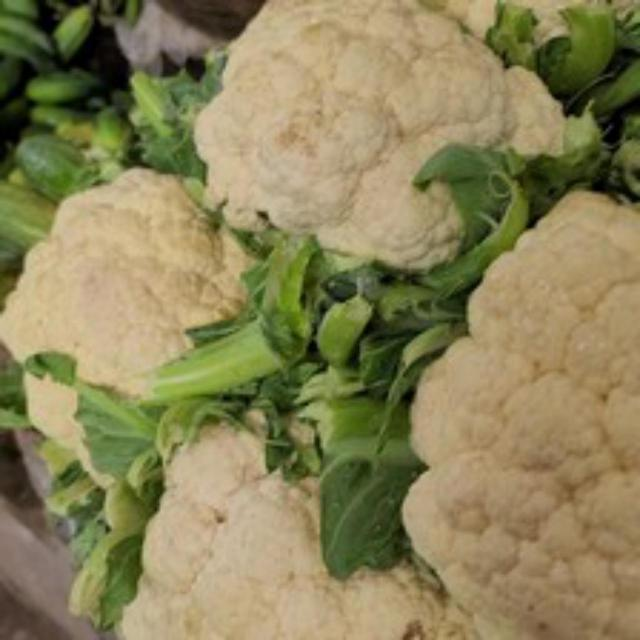cauliflower: (403, 174, 637, 637), (190, 0, 592, 256), (7, 164, 260, 482), (94, 406, 428, 636)
